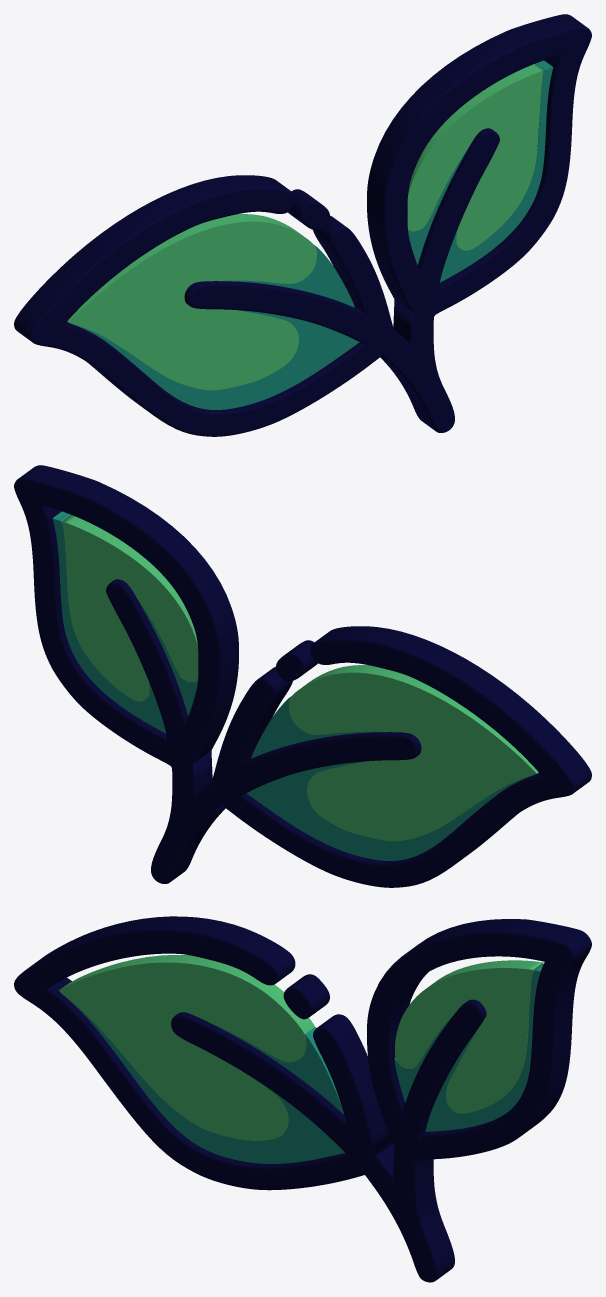
Rendered from leaf.gltf.
3 renders of one model, top to bottom at view 1: azimuth 30°, elevation 25°; view 2: azimuth 150°, elevation 25°; view 3: azimuth 330°, elevation 25°, orthographic.
Visible parts, largest first — view 1: path263, path271, path267; view 2: path263, path271, path267; view 3: path263, path271, path267.
Boxes of the visible parts, x1,y1,x2,y2 form: path263: (14,14,591,436); path271: (67,64,543,390); path267: (71,60,553,409); path263: (14,465,591,887); path271: (62,515,538,841); path267: (52,511,534,860); path263: (14,916,591,1282); path271: (59,955,543,1140); path267: (61,964,543,1163).
Size of the model in its own units: 10.18 by 6.47 by 0.5745.
